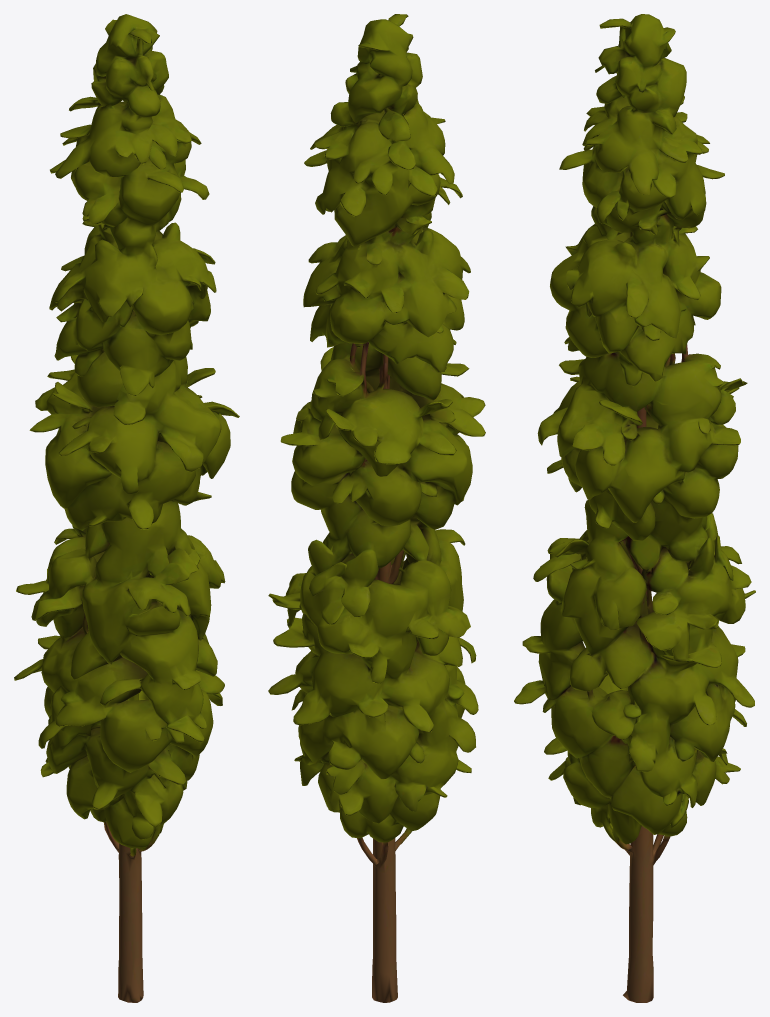
Rendered from tree-columnar.glb.
3 renders of one model, left to right at view 1: azimuth 30°, elevation 25°; view 2: azimuth 150°, elevation 25°; view 3: azimuth 270°, elevation 25°, orthographic.
Parts seen in each view (by area): view 1: tripo_node_c58e7b62-e8b4-493e-9fd8-9464b2f13592; view 2: tripo_node_c58e7b62-e8b4-493e-9fd8-9464b2f13592; view 3: tripo_node_c58e7b62-e8b4-493e-9fd8-9464b2f13592.
Part boxes in pixels (bbox=[...]): tripo_node_c58e7b62-e8b4-493e-9fd8-9464b2f13592: bbox=[14, 14, 239, 1002]; tripo_node_c58e7b62-e8b4-493e-9fd8-9464b2f13592: bbox=[268, 14, 485, 1002]; tripo_node_c58e7b62-e8b4-493e-9fd8-9464b2f13592: bbox=[514, 14, 755, 1002].
Bounding box in the file's own units: 0.2903 × 1.5 × 0.3344.
1 material, 1 textured.
